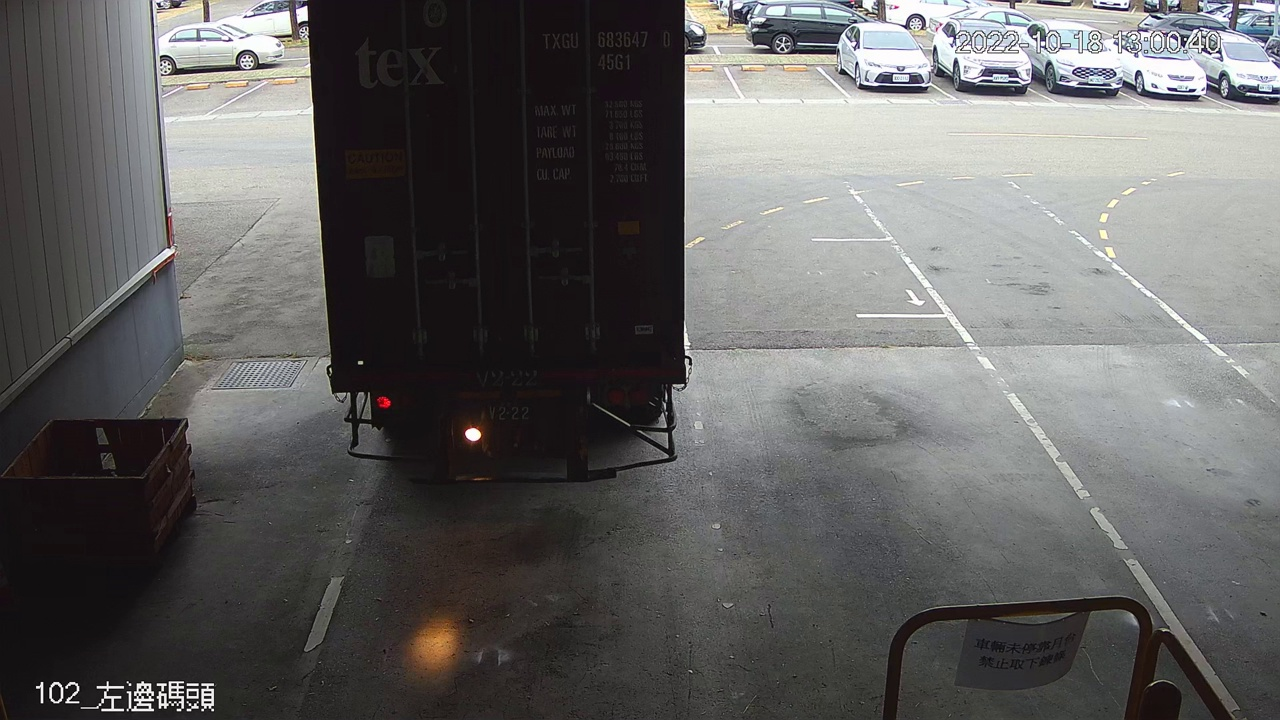container: (533, 21, 675, 77)
